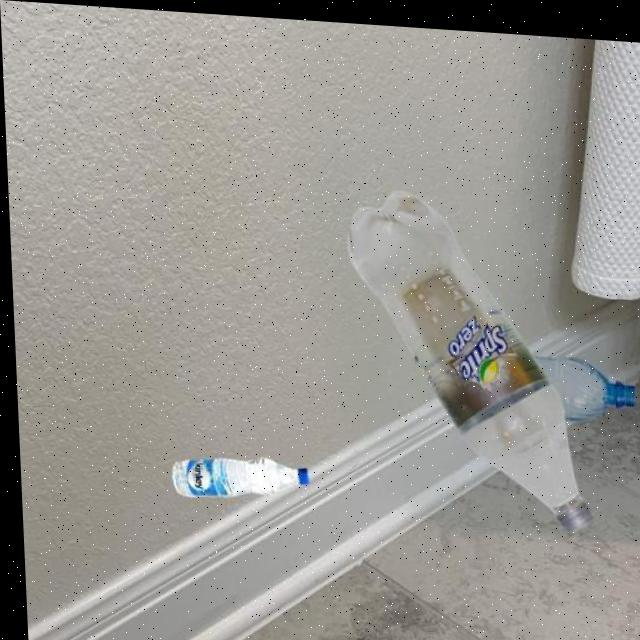bottle: (341, 180, 590, 528), (165, 446, 306, 502)
